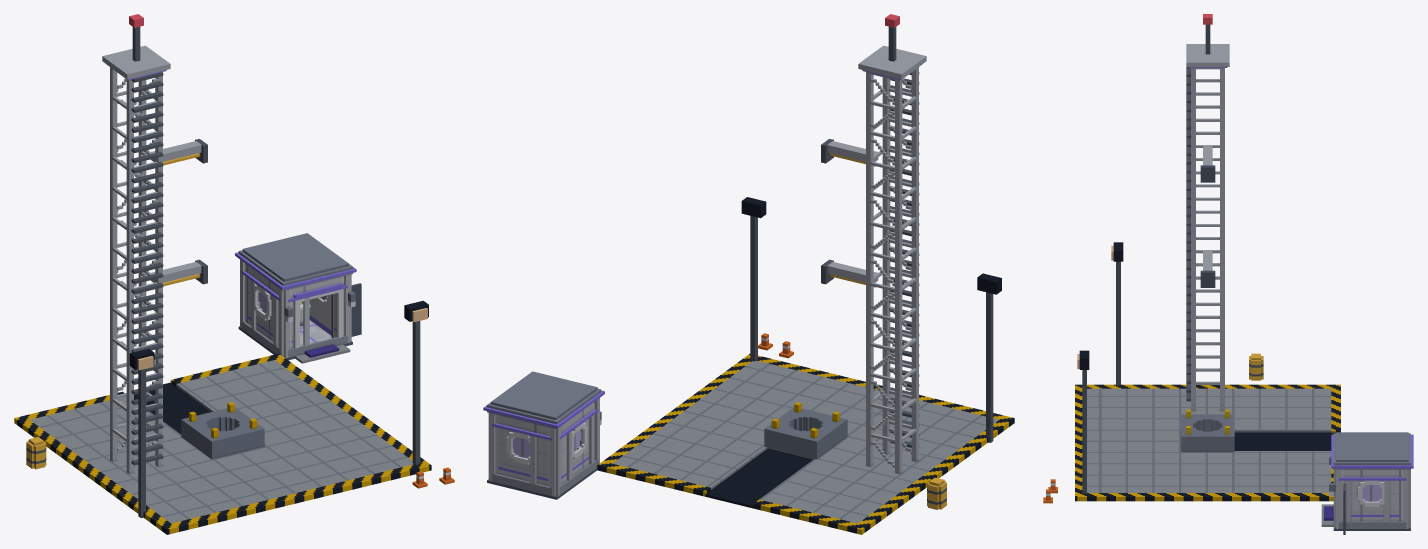
The model's file is pad_e5_l1.glb.
3 views of the same model, side by side, from view 1: azimuth 30°, elevation 25°; view 2: azimuth 150°, elevation 25°; view 3: azimuth 270°, elevation 25° (orthographic). The views are drawn at different scales.
Visible parts, largest first — view 1: Base, CutRoof, CutPZ, CutNX; view 2: Base, CutRoof, CutNZ, CutNX; view 3: Base, CutRoof, CutPX, CutPZ.
Part boxes in pixels (x1,y1,x2,y2): Base: [14, 14, 454, 534]; CutRoof: [235, 233, 356, 290]; CutPZ: [279, 274, 361, 335]; CutNX: [241, 265, 280, 331]; Base: [487, 14, 1014, 534]; CutRoof: [483, 371, 604, 429]; CutNZ: [488, 413, 560, 473]; CutNX: [559, 403, 598, 468]; Base: [1043, 14, 1410, 534]; CutRoof: [1331, 432, 1413, 469]; CutPX: [1338, 469, 1406, 508]; CutPZ: [1329, 456, 1345, 515].
Bounding box in the file's own units: 15.9 × 17.9 × 15.3.
